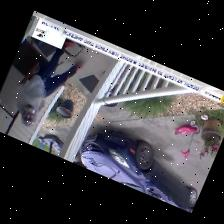person: (15, 47, 82, 125)
